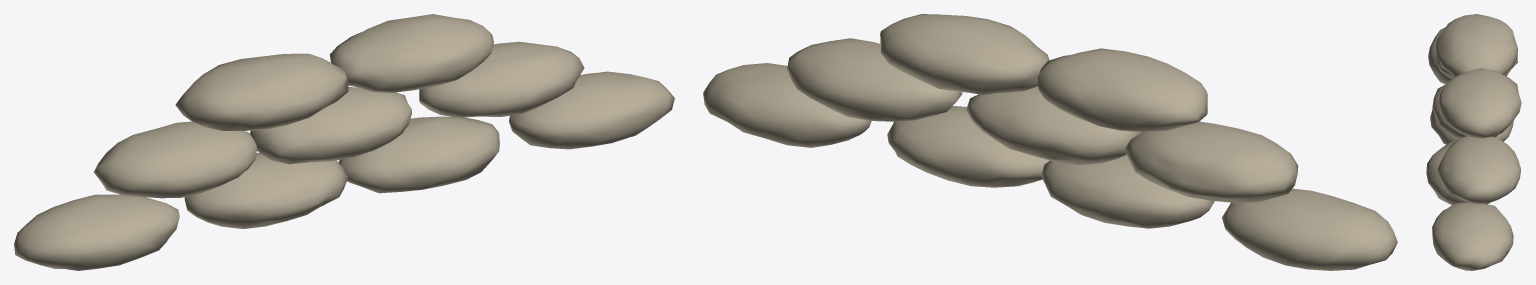
Rendered from sandbags.glb.
3 renders of one model, left to right at view 1: azimuth 30°, elevation 25°; view 2: azimuth 150°, elevation 25°; view 3: azimuth 270°, elevation 25°, orthographic. The views are drawn at different scales.
Parts seen in each view (by area): view 1: sandbags; view 2: sandbags; view 3: sandbags.
Boxes of the visible parts, box(x1,y1,x2,y2) form: sandbags: box(14, 14, 674, 270); sandbags: box(703, 14, 1397, 270); sandbags: box(1426, 14, 1521, 270).
Size of the model in its own units: 2.02 by 0.4419 by 0.3452.
